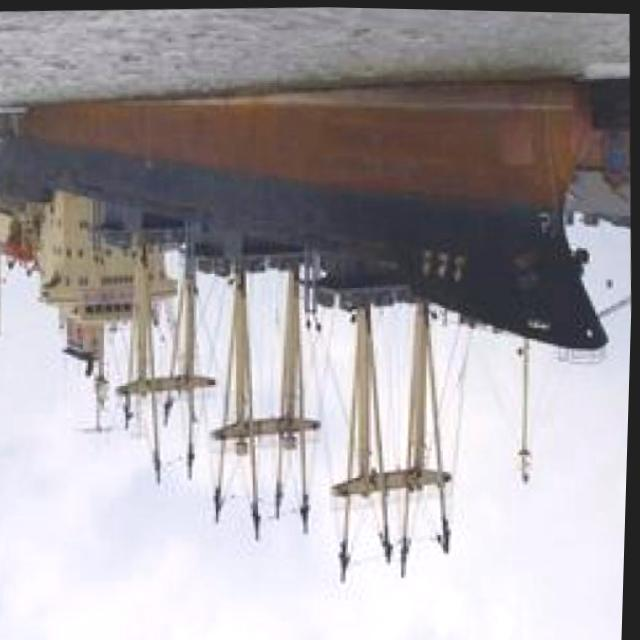ship2: (0, 72, 609, 587)
